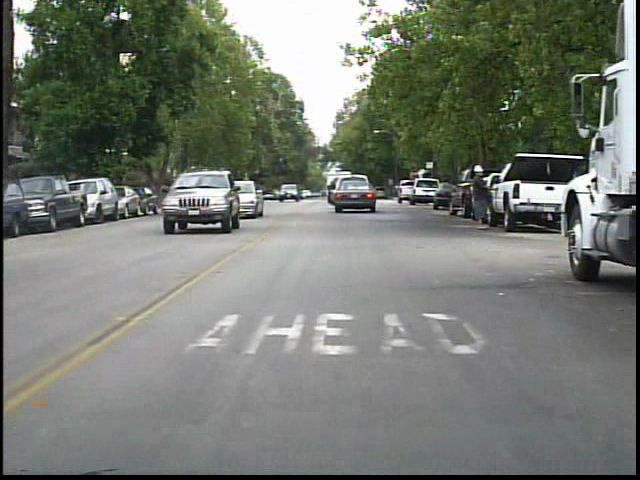person: (465, 162, 496, 234)
